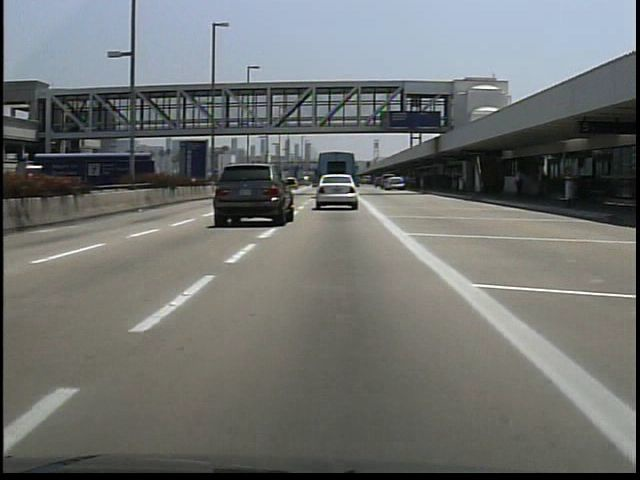person: (509, 168, 529, 205)
